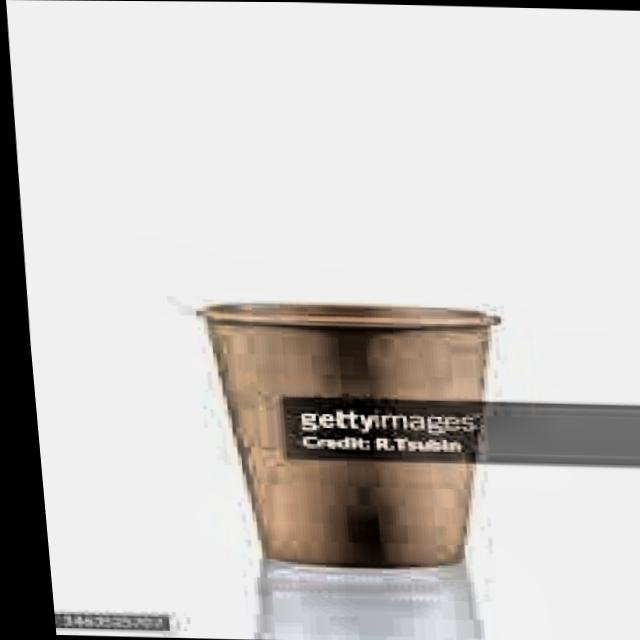Cup: (162, 284, 528, 578)
